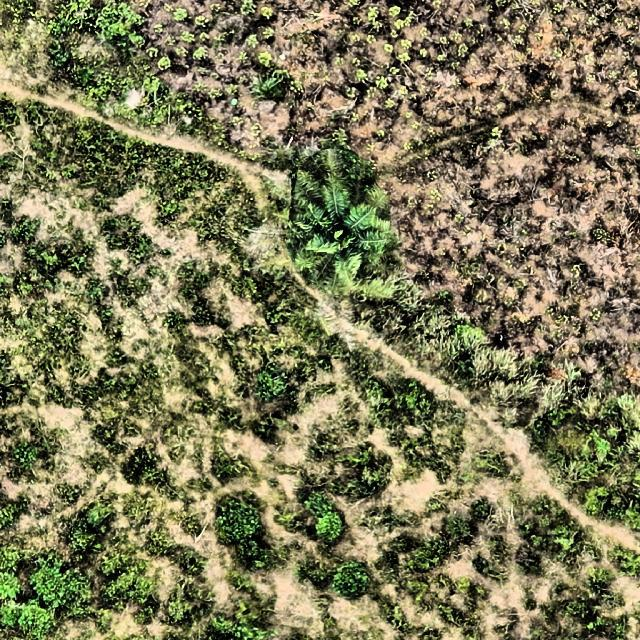Kelapa_Sawit: (288, 181, 404, 281)
